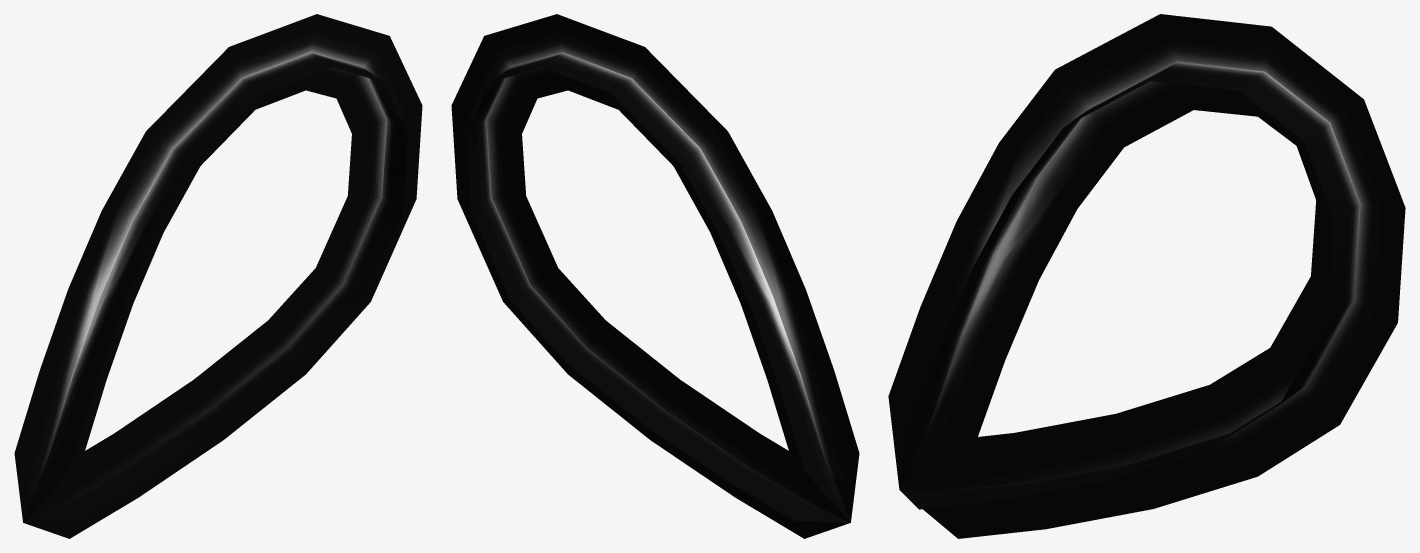
The model's file is 0386_miaowahua_piaodai.glb.
3 renders of one model, left to right at view 1: azimuth 30°, elevation 25°; view 2: azimuth 150°, elevation 25°; view 3: azimuth 330°, elevation 25°, orthographic. The views are drawn at different scales.
Size of the model in its own units: 2.02 by 2.2 by 0.3535.
Materials: 1 (1 with a texture image).
